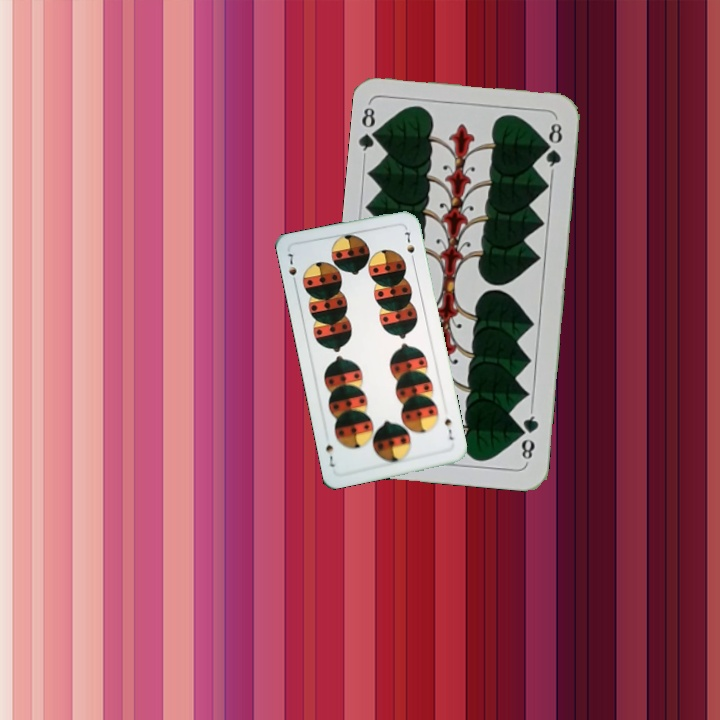G8: (355, 100, 384, 159), (516, 406, 541, 465)
S7: (284, 249, 299, 288), (440, 414, 456, 443)
